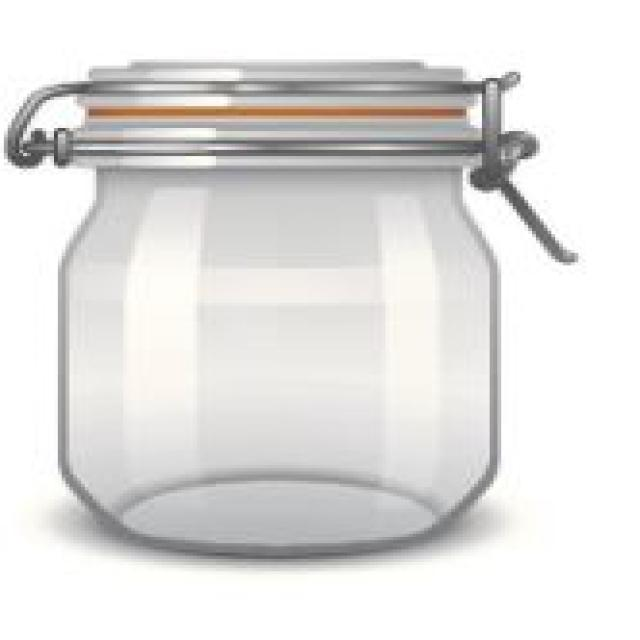electronic: (56, 63, 501, 560)
